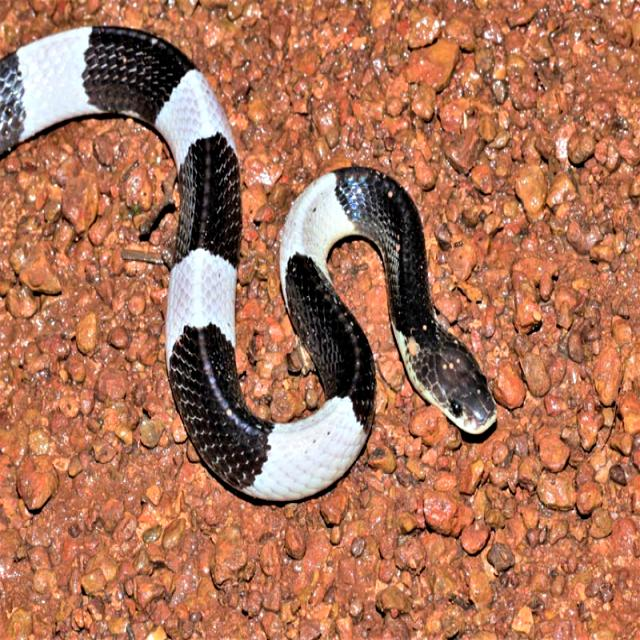Bungarus candidus: (0, 27, 495, 501)
